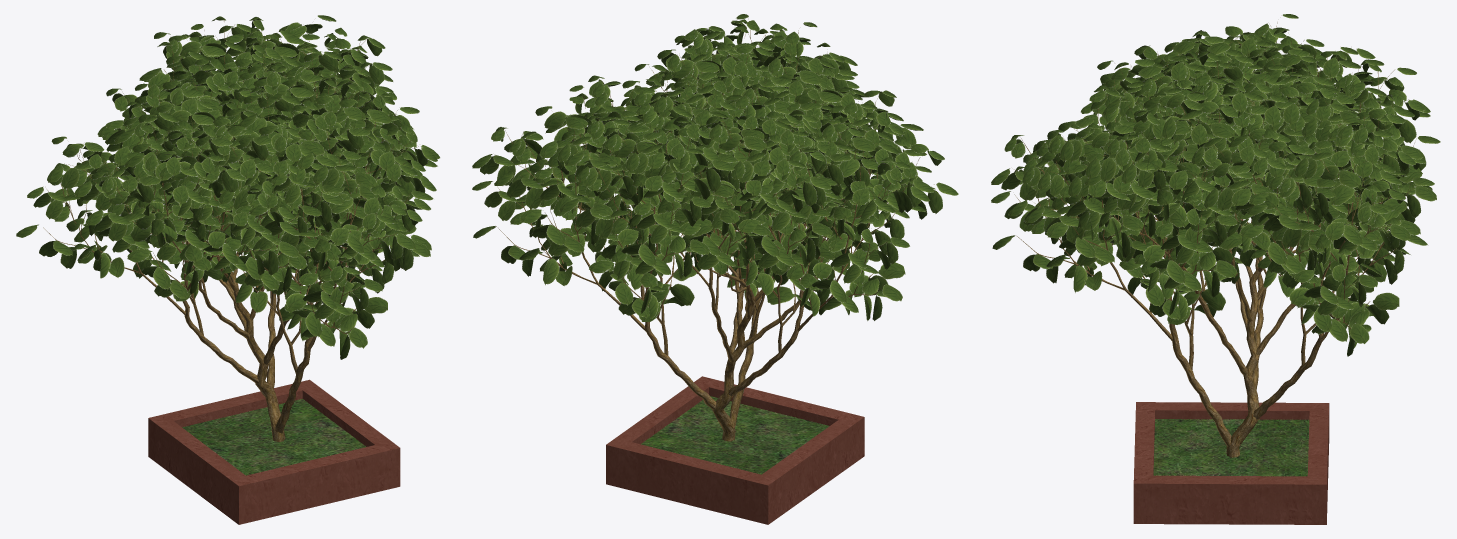
File: fbxTree.fbx
3 views of the same model, side by side, from view 1: azimuth 30°, elevation 25°; view 2: azimuth 150°, elevation 25°; view 3: azimuth 270°, elevation 25° (orthographic). The views are drawn at different scales.
Parts seen in each view (by area): view 1: leaf, leaftip4, pot, root; view 2: leaf, leaftip4, pot, root; view 3: leaf, leaftip4, pot, root.
Boxes of the visible parts, <box> form: leaf: <box>33,17,427,359</box>; leaftip4: <box>16,15,440,348</box>; pot: <box>148,379,400,524</box>; root: <box>43,19,418,441</box>; leaf: <box>480,26,942,321</box>; leaftip4: <box>472,14,958,301</box>; pot: <box>606,376,864,524</box>; root: <box>496,21,934,441</box>; leaf: <box>1001,26,1426,356</box>; leaftip4: <box>991,14,1440,343</box>; pot: <box>1133,402,1329,524</box>; root: <box>1014,22,1414,457</box>.
Bounding box in the file's own units: 3.19 × 3.09 × 2.96.
4 materials, 4 textured.
